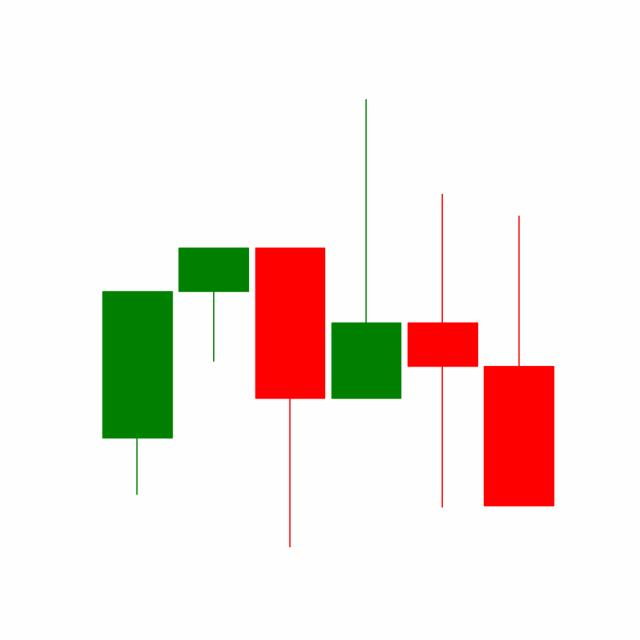Spinning Top: (403, 190, 481, 511)
